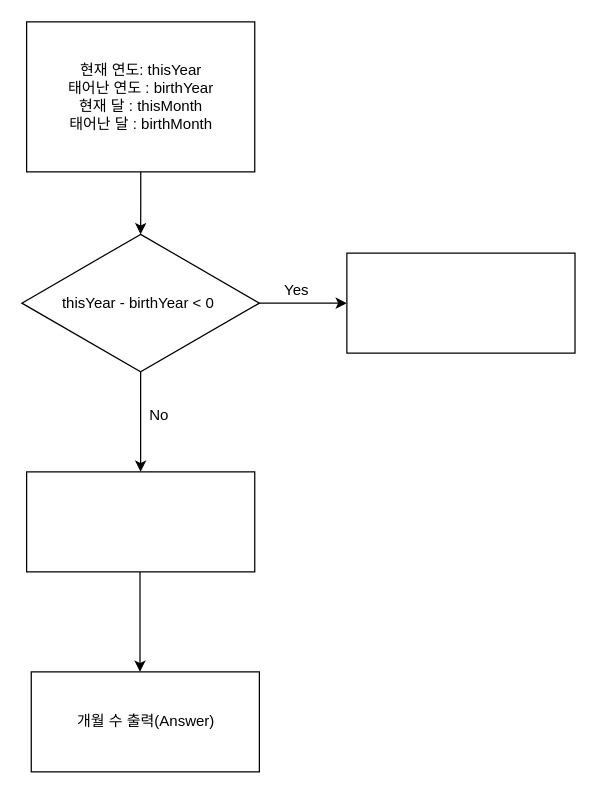
Image size: 598x794. Some labels were removed from this diagram. The shapes that lost their labels are listed below. From the top down, each one's centre as x and y in pixels, then its label:
At pixel 460 302: "오류 출력".
At pixel 140 521: "Answer = (thisYear - birthYear) * 12 + thisMonth - birthMonth".
